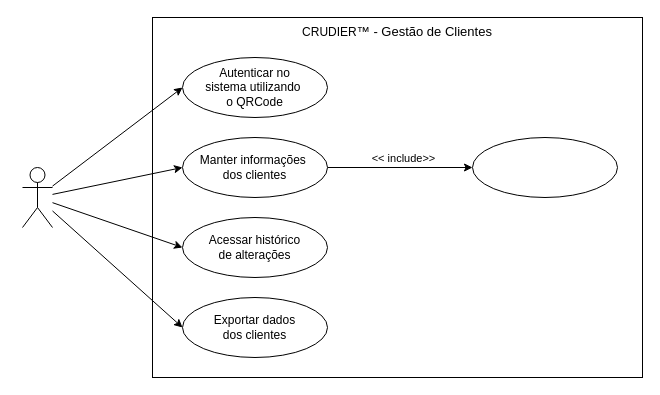
This 660x395 diagram has some shape labels left out. Here are the shapes that lost their labels. From the top down, the centre of each, then its label:
At pixel 545 167: "Inserir senha administrativa ao executar uma exclusão".
At pixel 37 197: "Usuário".
